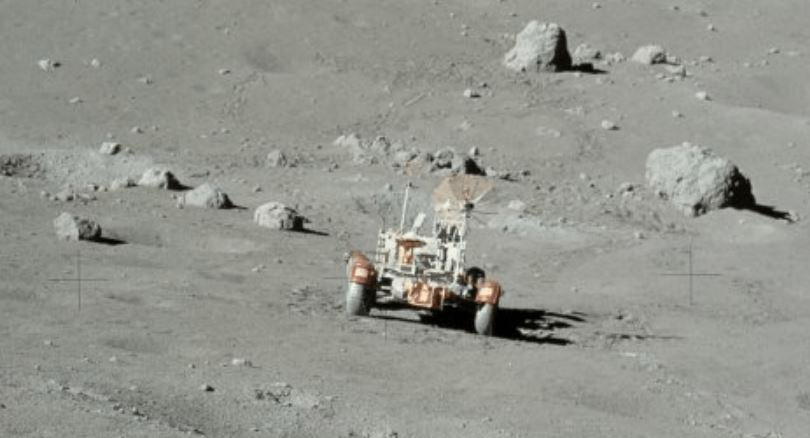rock: (645, 142, 754, 215), (503, 22, 571, 71), (253, 201, 304, 229), (54, 212, 101, 240), (185, 182, 234, 208), (138, 166, 190, 189), (631, 46, 666, 64)
